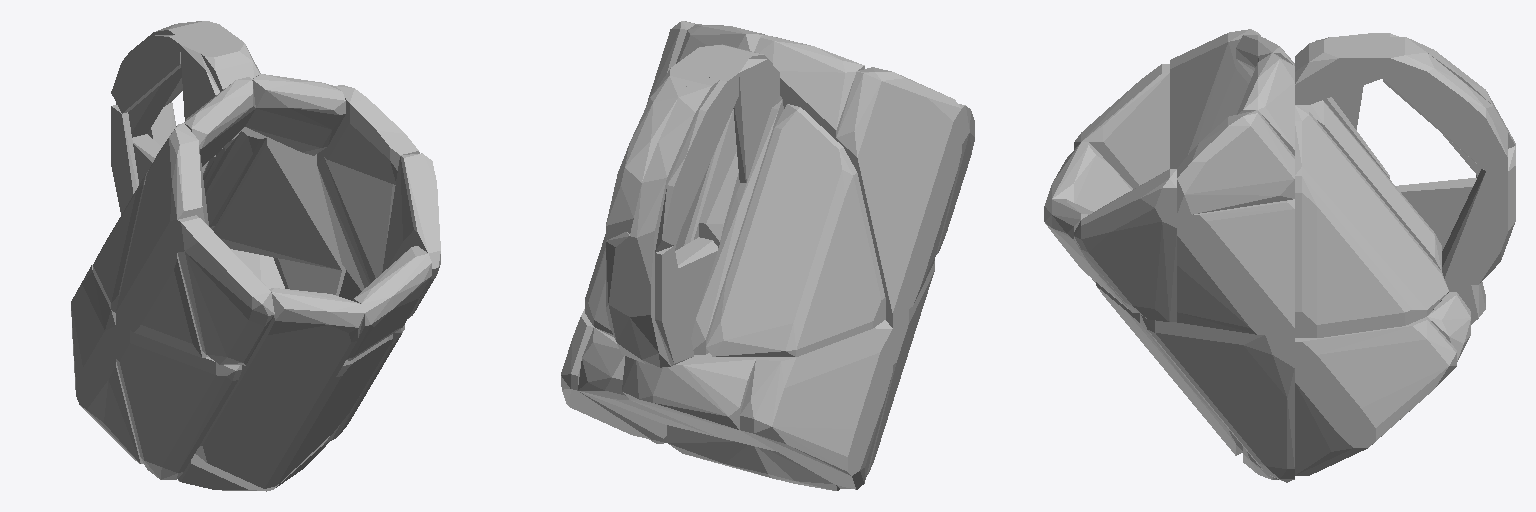
--- What the picture shows (computed from the rendered views, not written in the file) ---
3 views of the same robot in one strip: view 1: azimuth 30°, elevation 25°; view 2: azimuth 150°, elevation 25°; view 3: azimuth 270°, elevation 25° (orthographic).
Model root with 31 links and 30 joints (30 fixed), rooted at link_5d803107b8a9aec8724d867867ccd9fb_convex_piece_0, posed all joints at 0.
Visible links, largest first — view 1: link_5d803107b8a9aec8724d867867ccd9fb_convex_piece_8, link_5d803107b8a9aec8724d867867ccd9fb_convex_piece_14, link_5d803107b8a9aec8724d867867ccd9fb_convex_piece_1, link_5d803107b8a9aec8724d867867ccd9fb_convex_piece_0, link_5d803107b8a9aec8724d867867ccd9fb_convex_piece_12, link_5d803107b8a9aec8724d867867ccd9fb_convex_piece_3, link_5d803107b8a9aec8724d867867ccd9fb_convex_piece_18, link_5d803107b8a9aec8724d867867ccd9fb_convex_piece_20, link_5d803107b8a9aec8724d867867ccd9fb_convex_piece_17, link_5d803107b8a9aec8724d867867ccd9fb_convex_piece_21, link_5d803107b8a9aec8724d867867ccd9fb_convex_piece_16, link_5d803107b8a9aec8724d867867ccd9fb_convex_piece_10 (+14 smaller); view 2: link_5d803107b8a9aec8724d867867ccd9fb_convex_piece_5, link_5d803107b8a9aec8724d867867ccd9fb_convex_piece_14, link_5d803107b8a9aec8724d867867ccd9fb_convex_piece_3, link_5d803107b8a9aec8724d867867ccd9fb_convex_piece_4, link_5d803107b8a9aec8724d867867ccd9fb_convex_piece_30, link_5d803107b8a9aec8724d867867ccd9fb_convex_piece_15, link_5d803107b8a9aec8724d867867ccd9fb_convex_piece_26, link_5d803107b8a9aec8724d867867ccd9fb_convex_piece_28, link_5d803107b8a9aec8724d867867ccd9fb_convex_piece_29, link_5d803107b8a9aec8724d867867ccd9fb_convex_piece_19, link_5d803107b8a9aec8724d867867ccd9fb_convex_piece_25, link_5d803107b8a9aec8724d867867ccd9fb_convex_piece_6 (+13 smaller); view 3: link_5d803107b8a9aec8724d867867ccd9fb_convex_piece_0, link_5d803107b8a9aec8724d867867ccd9fb_convex_piece_7, link_5d803107b8a9aec8724d867867ccd9fb_convex_piece_18, link_5d803107b8a9aec8724d867867ccd9fb_convex_piece_2, link_5d803107b8a9aec8724d867867ccd9fb_convex_piece_17, link_5d803107b8a9aec8724d867867ccd9fb_convex_piece_21, link_5d803107b8a9aec8724d867867ccd9fb_convex_piece_28, link_5d803107b8a9aec8724d867867ccd9fb_convex_piece_14, link_5d803107b8a9aec8724d867867ccd9fb_convex_piece_12, link_5d803107b8a9aec8724d867867ccd9fb_convex_piece_22, link_5d803107b8a9aec8724d867867ccd9fb_convex_piece_13, link_5d803107b8a9aec8724d867867ccd9fb_convex_piece_23 (+11 smaller).
Boxes of the visible links, box(x1,y1,x2,y2) form: link_5d803107b8a9aec8724d867867ccd9fb_convex_piece_8: box(195, 288, 364, 488); link_5d803107b8a9aec8724d867867ccd9fb_convex_piece_14: box(116, 123, 208, 357); link_5d803107b8a9aec8724d867867ccd9fb_convex_piece_1: box(116, 320, 241, 479); link_5d803107b8a9aec8724d867867ccd9fb_convex_piece_0: box(212, 137, 345, 270); link_5d803107b8a9aec8724d867867ccd9fb_convex_piece_12: box(177, 215, 274, 365); link_5d803107b8a9aec8724d867867ccd9fb_convex_piece_3: box(71, 265, 143, 463); link_5d803107b8a9aec8724d867867ccd9fb_convex_piece_18: box(317, 153, 395, 290); link_5d803107b8a9aec8724d867867ccd9fb_convex_piece_20: box(245, 74, 345, 155); link_5d803107b8a9aec8724d867867ccd9fb_convex_piece_17: box(382, 153, 440, 318); link_5d803107b8a9aec8724d867867ccd9fb_convex_piece_21: box(319, 85, 419, 184); link_5d803107b8a9aec8724d867867ccd9fb_convex_piece_16: box(347, 246, 431, 360); link_5d803107b8a9aec8724d867867ccd9fb_convex_piece_10: box(271, 334, 392, 486); link_5d803107b8a9aec8724d867867ccd9fb_convex_piece_5: box(706, 104, 885, 356); link_5d803107b8a9aec8724d867867ccd9fb_convex_piece_14: box(836, 67, 961, 320); link_5d803107b8a9aec8724d867867ccd9fb_convex_piece_3: box(740, 320, 892, 489); link_5d803107b8a9aec8724d867867ccd9fb_convex_piece_4: box(622, 353, 776, 451); link_5d803107b8a9aec8724d867867ccd9fb_convex_piece_30: box(630, 75, 719, 284); link_5d803107b8a9aec8724d867867ccd9fb_convex_piece_15: box(754, 35, 864, 139); link_5d803107b8a9aec8724d867867ccd9fb_convex_piece_26: box(655, 71, 738, 252); link_5d803107b8a9aec8724d867867ccd9fb_convex_piece_28: box(606, 65, 700, 240); link_5d803107b8a9aec8724d867867ccd9fb_convex_piece_29: box(630, 237, 717, 367); link_5d803107b8a9aec8724d867867ccd9fb_convex_piece_19: box(691, 95, 783, 354); link_5d803107b8a9aec8724d867867ccd9fb_convex_piece_25: box(733, 59, 779, 182); link_5d803107b8a9aec8724d867867ccd9fb_convex_piece_6: box(578, 327, 718, 437); link_5d803107b8a9aec8724d867867ccd9fb_convex_piece_0: box(1295, 105, 1448, 337); link_5d803107b8a9aec8724d867867ccd9fb_convex_piece_7: box(1295, 317, 1456, 475); link_5d803107b8a9aec8724d867867ccd9fb_convex_piece_18: box(1177, 199, 1294, 334); link_5d803107b8a9aec8724d867867ccd9fb_convex_piece_2: box(1140, 314, 1294, 482); link_5d803107b8a9aec8724d867867ccd9fb_convex_piece_17: box(1074, 169, 1176, 321); link_5d803107b8a9aec8724d867867ccd9fb_convex_piece_21: box(1177, 110, 1294, 214); link_5d803107b8a9aec8724d867867ccd9fb_convex_piece_28: box(1383, 46, 1507, 171); link_5d803107b8a9aec8724d867867ccd9fb_convex_piece_14: box(1170, 29, 1260, 168); link_5d803107b8a9aec8724d867867ccd9fb_convex_piece_12: box(1074, 64, 1169, 188); link_5d803107b8a9aec8724d867867ccd9fb_convex_piece_22: box(1442, 146, 1515, 284); link_5d803107b8a9aec8724d867867ccd9fb_convex_piece_13: box(1295, 37, 1389, 104); link_5d803107b8a9aec8724d867867ccd9fb_convex_piece_23: box(1296, 100, 1441, 270).
Size in the robot's own frame: 0.0293 by 0.0469 by 0.0454 metres.
Meshes: 31 distinct files referenced, 31 mesh visuals loaded (31 OBJ).

The robot description file, URDF, robot "root":
<robot name="root">
  <link name="link_5d803107b8a9aec8724d867867ccd9fb_convex_piece_0">
    <inertial>
      <origin rpy="0 0 0" xyz="0 0 0"/>
      <mass value="3.25E-07"/>
      <inertia ixx="2.83E-11" ixy="1.57E-11" ixz="8.36E-12" iyy="3.21E-11" iyz="6.61E-12" izz="3.91E-11"/>
    </inertial>
    <visual>
      <origin rpy="0 0 0" xyz="0 0 0"/>
      <geometry>
        <mesh filename="5d803107b8a9aec8724d867867ccd9fb_convex_piece_0.obj" scale="1.0000E+00"/>
      </geometry>
      <material name="">
        <color rgba="7.50E-01 7.50E-01 7.50E-01 1"/>
      </material>
    </visual>
    <collision>
      <origin rpy="0 0 0" xyz="0 0 0"/>
      <geometry>
        <mesh filename="5d803107b8a9aec8724d867867ccd9fb_convex_piece_0.obj" scale="1.0000E+00"/>
      </geometry>
    </collision>
  </link>
  <link name="link_5d803107b8a9aec8724d867867ccd9fb_convex_piece_1">
    <inertial>
      <origin rpy="0 0 0" xyz="0 0 0"/>
      <mass value="1.71E-07"/>
      <inertia ixx="2.02E-11" ixy="6.37E-12" ixz="1.64E-11" iyy="3.72E-11" iyz="4.86E-12" izz="2.46E-11"/>
    </inertial>
    <visual>
      <origin rpy="0 0 0" xyz="0 0 0"/>
      <geometry>
        <mesh filename="5d803107b8a9aec8724d867867ccd9fb_convex_piece_1.obj" scale="1.0000E+00"/>
      </geometry>
      <material name="">
        <color rgba="7.50E-01 7.50E-01 7.50E-01 1"/>
      </material>
    </visual>
    <collision>
      <origin rpy="0 0 0" xyz="0 0 0"/>
      <geometry>
        <mesh filename="5d803107b8a9aec8724d867867ccd9fb_convex_piece_1.obj" scale="1.0000E+00"/>
      </geometry>
    </collision>
  </link>
  <joint name="link_5d803107b8a9aec8724d867867ccd9fb_convex_piece_1_joint" type="fixed">
    <origin rpy="0 0 0" xyz="0 0 0"/>
    <parent link="link_5d803107b8a9aec8724d867867ccd9fb_convex_piece_0"/>
    <child link="link_5d803107b8a9aec8724d867867ccd9fb_convex_piece_1"/>
  </joint>
  <link name="link_5d803107b8a9aec8724d867867ccd9fb_convex_piece_2">
    <inertial>
      <origin rpy="0 0 0" xyz="0 0 0"/>
      <mass value="1.70E-07"/>
      <inertia ixx="1.99E-11" ixy="-6.30E-12" ixz="-1.63E-11" iyy="3.70E-11" iyz="4.77E-12" izz="2.45E-11"/>
    </inertial>
    <visual>
      <origin rpy="0 0 0" xyz="0 0 0"/>
      <geometry>
        <mesh filename="5d803107b8a9aec8724d867867ccd9fb_convex_piece_2.obj" scale="1.0000E+00"/>
      </geometry>
      <material name="">
        <color rgba="7.50E-01 7.50E-01 7.50E-01 1"/>
      </material>
    </visual>
    <collision>
      <origin rpy="0 0 0" xyz="0 0 0"/>
      <geometry>
        <mesh filename="5d803107b8a9aec8724d867867ccd9fb_convex_piece_2.obj" scale="1.0000E+00"/>
      </geometry>
    </collision>
  </link>
  <joint name="link_5d803107b8a9aec8724d867867ccd9fb_convex_piece_2_joint" type="fixed">
    <origin rpy="0 0 0" xyz="0 0 0"/>
    <parent link="link_5d803107b8a9aec8724d867867ccd9fb_convex_piece_1"/>
    <child link="link_5d803107b8a9aec8724d867867ccd9fb_convex_piece_2"/>
  </joint>
  <link name="link_5d803107b8a9aec8724d867867ccd9fb_convex_piece_3">
    <inertial>
      <origin rpy="0 0 0" xyz="0 0 0"/>
      <mass value="3.02E-07"/>
      <inertia ixx="5.04E-11" ixy="-2.41E-11" ixz="3.15E-11" iyy="6.77E-11" iyz="-1.87E-11" izz="5.76E-11"/>
    </inertial>
    <visual>
      <origin rpy="0 0 0" xyz="0 0 0"/>
      <geometry>
        <mesh filename="5d803107b8a9aec8724d867867ccd9fb_convex_piece_3.obj" scale="1.0000E+00"/>
      </geometry>
      <material name="">
        <color rgba="7.50E-01 7.50E-01 7.50E-01 1"/>
      </material>
    </visual>
    <collision>
      <origin rpy="0 0 0" xyz="0 0 0"/>
      <geometry>
        <mesh filename="5d803107b8a9aec8724d867867ccd9fb_convex_piece_3.obj" scale="1.0000E+00"/>
      </geometry>
    </collision>
  </link>
  <joint name="link_5d803107b8a9aec8724d867867ccd9fb_convex_piece_3_joint" type="fixed">
    <origin rpy="0 0 0" xyz="0 0 0"/>
    <parent link="link_5d803107b8a9aec8724d867867ccd9fb_convex_piece_2"/>
    <child link="link_5d803107b8a9aec8724d867867ccd9fb_convex_piece_3"/>
  </joint>
  <link name="link_5d803107b8a9aec8724d867867ccd9fb_convex_piece_4">
    <inertial>
      <origin rpy="0 0 0" xyz="0 0 0"/>
      <mass value="4.46E-07"/>
      <inertia ixx="9.81E-11" ixy="-1.14E-11" ixz="1.03E-11" iyy="4.77E-11" iyz="-3.40E-11" izz="6.49E-11"/>
    </inertial>
    <visual>
      <origin rpy="0 0 0" xyz="0 0 0"/>
      <geometry>
        <mesh filename="5d803107b8a9aec8724d867867ccd9fb_convex_piece_4.obj" scale="1.0000E+00"/>
      </geometry>
      <material name="">
        <color rgba="7.50E-01 7.50E-01 7.50E-01 1"/>
      </material>
    </visual>
    <collision>
      <origin rpy="0 0 0" xyz="0 0 0"/>
      <geometry>
        <mesh filename="5d803107b8a9aec8724d867867ccd9fb_convex_piece_4.obj" scale="1.0000E+00"/>
      </geometry>
    </collision>
  </link>
  <joint name="link_5d803107b8a9aec8724d867867ccd9fb_convex_piece_4_joint" type="fixed">
    <origin rpy="0 0 0" xyz="0 0 0"/>
    <parent link="link_5d803107b8a9aec8724d867867ccd9fb_convex_piece_3"/>
    <child link="link_5d803107b8a9aec8724d867867ccd9fb_convex_piece_4"/>
  </joint>
  <link name="link_5d803107b8a9aec8724d867867ccd9fb_convex_piece_5">
    <inertial>
      <origin rpy="0 0 0" xyz="0 0 0"/>
      <mass value="2.72E-07"/>
      <inertia ixx="2.23E-11" ixy="-1.32E-11" ixz="-8.19E-12" iyy="2.80E-11" iyz="6.12E-12" izz="3.23E-11"/>
    </inertial>
    <visual>
      <origin rpy="0 0 0" xyz="0 0 0"/>
      <geometry>
        <mesh filename="5d803107b8a9aec8724d867867ccd9fb_convex_piece_5.obj" scale="1.0000E+00"/>
      </geometry>
      <material name="">
        <color rgba="7.50E-01 7.50E-01 7.50E-01 1"/>
      </material>
    </visual>
    <collision>
      <origin rpy="0 0 0" xyz="0 0 0"/>
      <geometry>
        <mesh filename="5d803107b8a9aec8724d867867ccd9fb_convex_piece_5.obj" scale="1.0000E+00"/>
      </geometry>
    </collision>
  </link>
  <joint name="link_5d803107b8a9aec8724d867867ccd9fb_convex_piece_5_joint" type="fixed">
    <origin rpy="0 0 0" xyz="0 0 0"/>
    <parent link="link_5d803107b8a9aec8724d867867ccd9fb_convex_piece_4"/>
    <child link="link_5d803107b8a9aec8724d867867ccd9fb_convex_piece_5"/>
  </joint>
  <link name="link_5d803107b8a9aec8724d867867ccd9fb_convex_piece_6">
    <inertial>
      <origin rpy="0 0 0" xyz="0 0 0"/>
      <mass value="2.10E-07"/>
      <inertia ixx="4.52E-11" ixy="1.22E-11" ixz="-1.19E-11" iyy="2.89E-11" iyz="-1.65E-11" izz="3.21E-11"/>
    </inertial>
    <visual>
      <origin rpy="0 0 0" xyz="0 0 0"/>
      <geometry>
        <mesh filename="5d803107b8a9aec8724d867867ccd9fb_convex_piece_6.obj" scale="1.0000E+00"/>
      </geometry>
      <material name="">
        <color rgba="7.50E-01 7.50E-01 7.50E-01 1"/>
      </material>
    </visual>
    <collision>
      <origin rpy="0 0 0" xyz="0 0 0"/>
      <geometry>
        <mesh filename="5d803107b8a9aec8724d867867ccd9fb_convex_piece_6.obj" scale="1.0000E+00"/>
      </geometry>
    </collision>
  </link>
  <joint name="link_5d803107b8a9aec8724d867867ccd9fb_convex_piece_6_joint" type="fixed">
    <origin rpy="0 0 0" xyz="0 0 0"/>
    <parent link="link_5d803107b8a9aec8724d867867ccd9fb_convex_piece_5"/>
    <child link="link_5d803107b8a9aec8724d867867ccd9fb_convex_piece_6"/>
  </joint>
  <link name="link_5d803107b8a9aec8724d867867ccd9fb_convex_piece_7">
    <inertial>
      <origin rpy="0 0 0" xyz="0 0 0"/>
      <mass value="2.53E-07"/>
      <inertia ixx="4.27E-11" ixy="2.05E-11" ixz="-2.82E-11" iyy="6.01E-11" iyz="-1.60E-11" izz="4.96E-11"/>
    </inertial>
    <visual>
      <origin rpy="0 0 0" xyz="0 0 0"/>
      <geometry>
        <mesh filename="5d803107b8a9aec8724d867867ccd9fb_convex_piece_7.obj" scale="1.0000E+00"/>
      </geometry>
      <material name="">
        <color rgba="7.50E-01 7.50E-01 7.50E-01 1"/>
      </material>
    </visual>
    <collision>
      <origin rpy="0 0 0" xyz="0 0 0"/>
      <geometry>
        <mesh filename="5d803107b8a9aec8724d867867ccd9fb_convex_piece_7.obj" scale="1.0000E+00"/>
      </geometry>
    </collision>
  </link>
  <joint name="link_5d803107b8a9aec8724d867867ccd9fb_convex_piece_7_joint" type="fixed">
    <origin rpy="0 0 0" xyz="0 0 0"/>
    <parent link="link_5d803107b8a9aec8724d867867ccd9fb_convex_piece_6"/>
    <child link="link_5d803107b8a9aec8724d867867ccd9fb_convex_piece_7"/>
  </joint>
  <link name="link_5d803107b8a9aec8724d867867ccd9fb_convex_piece_8">
    <inertial>
      <origin rpy="0 0 0" xyz="0 0 0"/>
      <mass value="3.19E-07"/>
      <inertia ixx="8.34E-11" ixy="1.70E-11" ixz="6.93E-12" iyy="3.28E-11" iyz="1.34E-11" izz="6.64E-11"/>
    </inertial>
    <visual>
      <origin rpy="0 0 0" xyz="0 0 0"/>
      <geometry>
        <mesh filename="5d803107b8a9aec8724d867867ccd9fb_convex_piece_8.obj" scale="1.0000E+00"/>
      </geometry>
      <material name="">
        <color rgba="7.50E-01 7.50E-01 7.50E-01 1"/>
      </material>
    </visual>
    <collision>
      <origin rpy="0 0 0" xyz="0 0 0"/>
      <geometry>
        <mesh filename="5d803107b8a9aec8724d867867ccd9fb_convex_piece_8.obj" scale="1.0000E+00"/>
      </geometry>
    </collision>
  </link>
  <joint name="link_5d803107b8a9aec8724d867867ccd9fb_convex_piece_8_joint" type="fixed">
    <origin rpy="0 0 0" xyz="0 0 0"/>
    <parent link="link_5d803107b8a9aec8724d867867ccd9fb_convex_piece_7"/>
    <child link="link_5d803107b8a9aec8724d867867ccd9fb_convex_piece_8"/>
  </joint>
  <link name="link_5d803107b8a9aec8724d867867ccd9fb_convex_piece_9">
    <inertial>
      <origin rpy="0 0 0" xyz="0 0 0"/>
      <mass value="1.05E-07"/>
      <inertia ixx="3.29E-11" ixy="5.20E-13" ixz="8.08E-12" iyy="3.55E-11" iyz="2.60E-12" izz="2.72E-12"/>
    </inertial>
    <visual>
      <origin rpy="0 0 0" xyz="0 0 0"/>
      <geometry>
        <mesh filename="5d803107b8a9aec8724d867867ccd9fb_convex_piece_9.obj" scale="1.0000E+00"/>
      </geometry>
      <material name="">
        <color rgba="7.50E-01 7.50E-01 7.50E-01 1"/>
      </material>
    </visual>
    <collision>
      <origin rpy="0 0 0" xyz="0 0 0"/>
      <geometry>
        <mesh filename="5d803107b8a9aec8724d867867ccd9fb_convex_piece_9.obj" scale="1.0000E+00"/>
      </geometry>
    </collision>
  </link>
  <joint name="link_5d803107b8a9aec8724d867867ccd9fb_convex_piece_9_joint" type="fixed">
    <origin rpy="0 0 0" xyz="0 0 0"/>
    <parent link="link_5d803107b8a9aec8724d867867ccd9fb_convex_piece_8"/>
    <child link="link_5d803107b8a9aec8724d867867ccd9fb_convex_piece_9"/>
  </joint>
  <link name="link_5d803107b8a9aec8724d867867ccd9fb_convex_piece_10">
    <inertial>
      <origin rpy="0 0 0" xyz="0 0 0"/>
      <mass value="2.03E-07"/>
      <inertia ixx="4.44E-11" ixy="-7.68E-12" ixz="-8.08E-12" iyy="2.89E-11" iyz="1.74E-11" izz="2.49E-11"/>
    </inertial>
    <visual>
      <origin rpy="0 0 0" xyz="0 0 0"/>
      <geometry>
        <mesh filename="5d803107b8a9aec8724d867867ccd9fb_convex_piece_10.obj" scale="1.0000E+00"/>
      </geometry>
      <material name="">
        <color rgba="7.50E-01 7.50E-01 7.50E-01 1"/>
      </material>
    </visual>
    <collision>
      <origin rpy="0 0 0" xyz="0 0 0"/>
      <geometry>
        <mesh filename="5d803107b8a9aec8724d867867ccd9fb_convex_piece_10.obj" scale="1.0000E+00"/>
      </geometry>
    </collision>
  </link>
  <joint name="link_5d803107b8a9aec8724d867867ccd9fb_convex_piece_10_joint" type="fixed">
    <origin rpy="0 0 0" xyz="0 0 0"/>
    <parent link="link_5d803107b8a9aec8724d867867ccd9fb_convex_piece_9"/>
    <child link="link_5d803107b8a9aec8724d867867ccd9fb_convex_piece_10"/>
  </joint>
  <link name="link_5d803107b8a9aec8724d867867ccd9fb_convex_piece_11">
    <inertial>
      <origin rpy="0 0 0" xyz="0 0 0"/>
      <mass value="1.04E-07"/>
      <inertia ixx="3.26E-11" ixy="-5.14E-13" ixz="-8.06E-12" iyy="3.53E-11" iyz="2.57E-12" izz="2.71E-12"/>
    </inertial>
    <visual>
      <origin rpy="0 0 0" xyz="0 0 0"/>
      <geometry>
        <mesh filename="5d803107b8a9aec8724d867867ccd9fb_convex_piece_11.obj" scale="1.0000E+00"/>
      </geometry>
      <material name="">
        <color rgba="7.50E-01 7.50E-01 7.50E-01 1"/>
      </material>
    </visual>
    <collision>
      <origin rpy="0 0 0" xyz="0 0 0"/>
      <geometry>
        <mesh filename="5d803107b8a9aec8724d867867ccd9fb_convex_piece_11.obj" scale="1.0000E+00"/>
      </geometry>
    </collision>
  </link>
  <joint name="link_5d803107b8a9aec8724d867867ccd9fb_convex_piece_11_joint" type="fixed">
    <origin rpy="0 0 0" xyz="0 0 0"/>
    <parent link="link_5d803107b8a9aec8724d867867ccd9fb_convex_piece_10"/>
    <child link="link_5d803107b8a9aec8724d867867ccd9fb_convex_piece_11"/>
  </joint>
  <link name="link_5d803107b8a9aec8724d867867ccd9fb_convex_piece_12">
    <inertial>
      <origin rpy="0 0 0" xyz="0 0 0"/>
      <mass value="9.89E-08"/>
      <inertia ixx="2.46E-11" ixy="1.56E-11" ixz="-6.35E-12" iyy="1.62E-11" iyz="-7.56E-12" izz="3.28E-11"/>
    </inertial>
    <visual>
      <origin rpy="0 0 0" xyz="0 0 0"/>
      <geometry>
        <mesh filename="5d803107b8a9aec8724d867867ccd9fb_convex_piece_12.obj" scale="1.0000E+00"/>
      </geometry>
      <material name="">
        <color rgba="7.50E-01 7.50E-01 7.50E-01 1"/>
      </material>
    </visual>
    <collision>
      <origin rpy="0 0 0" xyz="0 0 0"/>
      <geometry>
        <mesh filename="5d803107b8a9aec8724d867867ccd9fb_convex_piece_12.obj" scale="1.0000E+00"/>
      </geometry>
    </collision>
  </link>
  <joint name="link_5d803107b8a9aec8724d867867ccd9fb_convex_piece_12_joint" type="fixed">
    <origin rpy="0 0 0" xyz="0 0 0"/>
    <parent link="link_5d803107b8a9aec8724d867867ccd9fb_convex_piece_11"/>
    <child link="link_5d803107b8a9aec8724d867867ccd9fb_convex_piece_12"/>
  </joint>
  <link name="link_5d803107b8a9aec8724d867867ccd9fb_convex_piece_13">
    <inertial>
      <origin rpy="0 0 0" xyz="0 0 0"/>
      <mass value="6.06E-08"/>
      <inertia ixx="2.71E-11" ixy="1.06E-13" ixz="4.07E-13" iyy="2.49E-11" iyz="7.60E-12" izz="2.48E-12"/>
    </inertial>
    <visual>
      <origin rpy="0 0 0" xyz="0 0 0"/>
      <geometry>
        <mesh filename="5d803107b8a9aec8724d867867ccd9fb_convex_piece_13.obj" scale="1.0000E+00"/>
      </geometry>
      <material name="">
        <color rgba="7.50E-01 7.50E-01 7.50E-01 1"/>
      </material>
    </visual>
    <collision>
      <origin rpy="0 0 0" xyz="0 0 0"/>
      <geometry>
        <mesh filename="5d803107b8a9aec8724d867867ccd9fb_convex_piece_13.obj" scale="1.0000E+00"/>
      </geometry>
    </collision>
  </link>
  <joint name="link_5d803107b8a9aec8724d867867ccd9fb_convex_piece_13_joint" type="fixed">
    <origin rpy="0 0 0" xyz="0 0 0"/>
    <parent link="link_5d803107b8a9aec8724d867867ccd9fb_convex_piece_12"/>
    <child link="link_5d803107b8a9aec8724d867867ccd9fb_convex_piece_13"/>
  </joint>
  <link name="link_5d803107b8a9aec8724d867867ccd9fb_convex_piece_14">
    <inertial>
      <origin rpy="0 0 0" xyz="0 0 0"/>
      <mass value="3.35E-07"/>
      <inertia ixx="3.55E-11" ixy="1.93E-11" ixz="-2.66E-11" iyy="7.03E-11" iyz="-1.06E-11" izz="5.63E-11"/>
    </inertial>
    <visual>
      <origin rpy="0 0 0" xyz="0 0 0"/>
      <geometry>
        <mesh filename="5d803107b8a9aec8724d867867ccd9fb_convex_piece_14.obj" scale="1.0000E+00"/>
      </geometry>
      <material name="">
        <color rgba="7.50E-01 7.50E-01 7.50E-01 1"/>
      </material>
    </visual>
    <collision>
      <origin rpy="0 0 0" xyz="0 0 0"/>
      <geometry>
        <mesh filename="5d803107b8a9aec8724d867867ccd9fb_convex_piece_14.obj" scale="1.0000E+00"/>
      </geometry>
    </collision>
  </link>
  <joint name="link_5d803107b8a9aec8724d867867ccd9fb_convex_piece_14_joint" type="fixed">
    <origin rpy="0 0 0" xyz="0 0 0"/>
    <parent link="link_5d803107b8a9aec8724d867867ccd9fb_convex_piece_13"/>
    <child link="link_5d803107b8a9aec8724d867867ccd9fb_convex_piece_14"/>
  </joint>
  <link name="link_5d803107b8a9aec8724d867867ccd9fb_convex_piece_15">
    <inertial>
      <origin rpy="0 0 0" xyz="0 0 0"/>
      <mass value="6.70E-08"/>
      <inertia ixx="2.01E-11" ixy="2.84E-13" ixz="-5.50E-12" iyy="2.21E-11" iyz="-6.34E-13" izz="1.95E-12"/>
    </inertial>
    <visual>
      <origin rpy="0 0 0" xyz="0 0 0"/>
      <geometry>
        <mesh filename="5d803107b8a9aec8724d867867ccd9fb_convex_piece_15.obj" scale="1.0000E+00"/>
      </geometry>
      <material name="">
        <color rgba="7.50E-01 7.50E-01 7.50E-01 1"/>
      </material>
    </visual>
    <collision>
      <origin rpy="0 0 0" xyz="0 0 0"/>
      <geometry>
        <mesh filename="5d803107b8a9aec8724d867867ccd9fb_convex_piece_15.obj" scale="1.0000E+00"/>
      </geometry>
    </collision>
  </link>
  <joint name="link_5d803107b8a9aec8724d867867ccd9fb_convex_piece_15_joint" type="fixed">
    <origin rpy="0 0 0" xyz="0 0 0"/>
    <parent link="link_5d803107b8a9aec8724d867867ccd9fb_convex_piece_14"/>
    <child link="link_5d803107b8a9aec8724d867867ccd9fb_convex_piece_15"/>
  </joint>
  <link name="link_5d803107b8a9aec8724d867867ccd9fb_convex_piece_16">
    <inertial>
      <origin rpy="0 0 0" xyz="0 0 0"/>
      <mass value="1.37E-07"/>
      <inertia ixx="4.42E-11" ixy="-1.20E-11" ixz="1.60E-12" iyy="5.52E-12" iyz="-5.15E-12" izz="4.79E-11"/>
    </inertial>
    <visual>
      <origin rpy="0 0 0" xyz="0 0 0"/>
      <geometry>
        <mesh filename="5d803107b8a9aec8724d867867ccd9fb_convex_piece_16.obj" scale="1.0000E+00"/>
      </geometry>
      <material name="">
        <color rgba="7.50E-01 7.50E-01 7.50E-01 1"/>
      </material>
    </visual>
    <collision>
      <origin rpy="0 0 0" xyz="0 0 0"/>
      <geometry>
        <mesh filename="5d803107b8a9aec8724d867867ccd9fb_convex_piece_16.obj" scale="1.0000E+00"/>
      </geometry>
    </collision>
  </link>
  <joint name="link_5d803107b8a9aec8724d867867ccd9fb_convex_piece_16_joint" type="fixed">
    <origin rpy="0 0 0" xyz="0 0 0"/>
    <parent link="link_5d803107b8a9aec8724d867867ccd9fb_convex_piece_15"/>
    <child link="link_5d803107b8a9aec8724d867867ccd9fb_convex_piece_16"/>
  </joint>
  <link name="link_5d803107b8a9aec8724d867867ccd9fb_convex_piece_17">
    <inertial>
      <origin rpy="0 0 0" xyz="0 0 0"/>
      <mass value="1.04E-07"/>
      <inertia ixx="2.45E-11" ixy="-1.60E-11" ixz="7.67E-12" iyy="1.89E-11" iyz="-8.42E-12" izz="3.32E-11"/>
    </inertial>
    <visual>
      <origin rpy="0 0 0" xyz="0 0 0"/>
      <geometry>
        <mesh filename="5d803107b8a9aec8724d867867ccd9fb_convex_piece_17.obj" scale="1.0000E+00"/>
      </geometry>
      <material name="">
        <color rgba="7.50E-01 7.50E-01 7.50E-01 1"/>
      </material>
    </visual>
    <collision>
      <origin rpy="0 0 0" xyz="0 0 0"/>
      <geometry>
        <mesh filename="5d803107b8a9aec8724d867867ccd9fb_convex_piece_17.obj" scale="1.0000E+00"/>
      </geometry>
    </collision>
  </link>
  <joint name="link_5d803107b8a9aec8724d867867ccd9fb_convex_piece_17_joint" type="fixed">
    <origin rpy="0 0 0" xyz="0 0 0"/>
    <parent link="link_5d803107b8a9aec8724d867867ccd9fb_convex_piece_16"/>
    <child link="link_5d803107b8a9aec8724d867867ccd9fb_convex_piece_17"/>
  </joint>
  <link name="link_5d803107b8a9aec8724d867867ccd9fb_convex_piece_18">
    <inertial>
      <origin rpy="0 0 0" xyz="0 0 0"/>
      <mass value="2.14E-07"/>
      <inertia ixx="1.12E-11" ixy="-1.13E-11" ixz="1.06E-11" iyy="3.65E-11" iyz="-3.10E-12" izz="3.66E-11"/>
    </inertial>
    <visual>
      <origin rpy="0 0 0" xyz="0 0 0"/>
      <geometry>
        <mesh filename="5d803107b8a9aec8724d867867ccd9fb_convex_piece_18.obj" scale="1.0000E+00"/>
      </geometry>
      <material name="">
        <color rgba="7.50E-01 7.50E-01 7.50E-01 1"/>
      </material>
    </visual>
    <collision>
      <origin rpy="0 0 0" xyz="0 0 0"/>
      <geometry>
        <mesh filename="5d803107b8a9aec8724d867867ccd9fb_convex_piece_18.obj" scale="1.0000E+00"/>
      </geometry>
    </collision>
  </link>
  <joint name="link_5d803107b8a9aec8724d867867ccd9fb_convex_piece_18_joint" type="fixed">
    <origin rpy="0 0 0" xyz="0 0 0"/>
    <parent link="link_5d803107b8a9aec8724d867867ccd9fb_convex_piece_17"/>
    <child link="link_5d803107b8a9aec8724d867867ccd9fb_convex_piece_18"/>
  </joint>
  <link name="link_5d803107b8a9aec8724d867867ccd9fb_convex_piece_19">
    <inertial>
      <origin rpy="0 0 0" xyz="0 0 0"/>
      <mass value="3.43E-08"/>
      <inertia ixx="5.11E-12" ixy="-8.95E-13" ixz="-6.39E-13" iyy="2.31E-12" iyz="1.42E-12" izz="3.41E-12"/>
    </inertial>
    <visual>
      <origin rpy="0 0 0" xyz="0 0 0"/>
      <geometry>
        <mesh filename="5d803107b8a9aec8724d867867ccd9fb_convex_piece_19.obj" scale="1.0000E+00"/>
      </geometry>
      <material name="">
        <color rgba="7.50E-01 7.50E-01 7.50E-01 1"/>
      </material>
    </visual>
    <collision>
      <origin rpy="0 0 0" xyz="0 0 0"/>
      <geometry>
        <mesh filename="5d803107b8a9aec8724d867867ccd9fb_convex_piece_19.obj" scale="1.0000E+00"/>
      </geometry>
    </collision>
  </link>
  <joint name="link_5d803107b8a9aec8724d867867ccd9fb_convex_piece_19_joint" type="fixed">
    <origin rpy="0 0 0" xyz="0 0 0"/>
    <parent link="link_5d803107b8a9aec8724d867867ccd9fb_convex_piece_18"/>
    <child link="link_5d803107b8a9aec8724d867867ccd9fb_convex_piece_19"/>
  </joint>
  <link name="link_5d803107b8a9aec8724d867867ccd9fb_convex_piece_20">
    <inertial>
      <origin rpy="0 0 0" xyz="0 0 0"/>
      <mass value="6.83E-08"/>
      <inertia ixx="2.03E-11" ixy="-2.99E-13" ixz="5.66E-12" iyy="2.24E-11" iyz="-6.60E-13" izz="2.03E-12"/>
    </inertial>
    <visual>
      <origin rpy="0 0 0" xyz="0 0 0"/>
      <geometry>
        <mesh filename="5d803107b8a9aec8724d867867ccd9fb_convex_piece_20.obj" scale="1.0000E+00"/>
      </geometry>
      <material name="">
        <color rgba="7.50E-01 7.50E-01 7.50E-01 1"/>
      </material>
    </visual>
    <collision>
      <origin rpy="0 0 0" xyz="0 0 0"/>
      <geometry>
        <mesh filename="5d803107b8a9aec8724d867867ccd9fb_convex_piece_20.obj" scale="1.0000E+00"/>
      </geometry>
    </collision>
  </link>
  <joint name="link_5d803107b8a9aec8724d867867ccd9fb_convex_piece_20_joint" type="fixed">
    <origin rpy="0 0 0" xyz="0 0 0"/>
    <parent link="link_5d803107b8a9aec8724d867867ccd9fb_convex_piece_19"/>
    <child link="link_5d803107b8a9aec8724d867867ccd9fb_convex_piece_20"/>
  </joint>
  <link name="link_5d803107b8a9aec8724d867867ccd9fb_convex_piece_21">
    <inertial>
      <origin rpy="0 0 0" xyz="0 0 0"/>
      <mass value="7.66E-08"/>
      <inertia ixx="1.73E-11" ixy="-4.04E-12" ixz="1.19E-11" iyy="2.49E-11" iyz="-4.62E-12" izz="1.15E-11"/>
    </inertial>
    <visual>
      <origin rpy="0 0 0" xyz="0 0 0"/>
      <geometry>
        <mesh filename="5d803107b8a9aec8724d867867ccd9fb_convex_piece_21.obj" scale="1.0000E+00"/>
      </geometry>
      <material name="">
        <color rgba="7.50E-01 7.50E-01 7.50E-01 1"/>
      </material>
    </visual>
    <collision>
      <origin rpy="0 0 0" xyz="0 0 0"/>
      <geometry>
        <mesh filename="5d803107b8a9aec8724d867867ccd9fb_convex_piece_21.obj" scale="1.0000E+00"/>
      </geometry>
    </collision>
  </link>
  <joint name="link_5d803107b8a9aec8724d867867ccd9fb_convex_piece_21_joint" type="fixed">
    <origin rpy="0 0 0" xyz="0 0 0"/>
    <parent link="link_5d803107b8a9aec8724d867867ccd9fb_convex_piece_20"/>
    <child link="link_5d803107b8a9aec8724d867867ccd9fb_convex_piece_21"/>
  </joint>
  <link name="link_5d803107b8a9aec8724d867867ccd9fb_convex_piece_22">
    <inertial>
      <origin rpy="0 0 0" xyz="0 0 0"/>
      <mass value="5.85E-08"/>
      <inertia ixx="2.53E-11" ixy="1.69E-12" ixz="2.96E-13" iyy="1.37E-12" iyz="4.69E-12" izz="2.42E-11"/>
    </inertial>
    <visual>
      <origin rpy="0 0 0" xyz="0 0 0"/>
      <geometry>
        <mesh filename="5d803107b8a9aec8724d867867ccd9fb_convex_piece_22.obj" scale="1.0000E+00"/>
      </geometry>
      <material name="">
        <color rgba="7.50E-01 7.50E-01 7.50E-01 1"/>
      </material>
    </visual>
    <collision>
      <origin rpy="0 0 0" xyz="0 0 0"/>
      <geometry>
        <mesh filename="5d803107b8a9aec8724d867867ccd9fb_convex_piece_22.obj" scale="1.0000E+00"/>
      </geometry>
    </collision>
  </link>
  <joint name="link_5d803107b8a9aec8724d867867ccd9fb_convex_piece_22_joint" type="fixed">
    <origin rpy="0 0 0" xyz="0 0 0"/>
    <parent link="link_5d803107b8a9aec8724d867867ccd9fb_convex_piece_21"/>
    <child link="link_5d803107b8a9aec8724d867867ccd9fb_convex_piece_22"/>
  </joint>
  <link name="link_5d803107b8a9aec8724d867867ccd9fb_convex_piece_23">
    <inertial>
      <origin rpy="0 0 0" xyz="0 0 0"/>
      <mass value="7.77E-08"/>
      <inertia ixx="1.30E-11" ixy="9.91E-13" ixz="8.39E-13" iyy="6.34E-12" iyz="3.78E-12" izz="7.10E-12"/>
    </inertial>
    <visual>
      <origin rpy="0 0 0" xyz="0 0 0"/>
      <geometry>
        <mesh filename="5d803107b8a9aec8724d867867ccd9fb_convex_piece_23.obj" scale="1.0000E+00"/>
      </geometry>
      <material name="">
        <color rgba="7.50E-01 7.50E-01 7.50E-01 1"/>
      </material>
    </visual>
    <collision>
      <origin rpy="0 0 0" xyz="0 0 0"/>
      <geometry>
        <mesh filename="5d803107b8a9aec8724d867867ccd9fb_convex_piece_23.obj" scale="1.0000E+00"/>
      </geometry>
    </collision>
  </link>
  <joint name="link_5d803107b8a9aec8724d867867ccd9fb_convex_piece_23_joint" type="fixed">
    <origin rpy="0 0 0" xyz="0 0 0"/>
    <parent link="link_5d803107b8a9aec8724d867867ccd9fb_convex_piece_22"/>
    <child link="link_5d803107b8a9aec8724d867867ccd9fb_convex_piece_23"/>
  </joint>
  <link name="link_5d803107b8a9aec8724d867867ccd9fb_convex_piece_24">
    <inertial>
      <origin rpy="0 0 0" xyz="0 0 0"/>
      <mass value="1.04E-08"/>
      <inertia ixx="4.47E-12" ixy="-5.37E-13" ixz="-9.49E-14" iyy="2.71E-13" iyz="8.25E-13" izz="4.34E-12"/>
    </inertial>
    <visual>
      <origin rpy="0 0 0" xyz="0 0 0"/>
      <geometry>
        <mesh filename="5d803107b8a9aec8724d867867ccd9fb_convex_piece_24.obj" scale="1.0000E+00"/>
      </geometry>
      <material name="">
        <color rgba="7.50E-01 7.50E-01 7.50E-01 1"/>
      </material>
    </visual>
    <collision>
      <origin rpy="0 0 0" xyz="0 0 0"/>
      <geometry>
        <mesh filename="5d803107b8a9aec8724d867867ccd9fb_convex_piece_24.obj" scale="1.0000E+00"/>
      </geometry>
    </collision>
  </link>
  <joint name="link_5d803107b8a9aec8724d867867ccd9fb_convex_piece_24_joint" type="fixed">
    <origin rpy="0 0 0" xyz="0 0 0"/>
    <parent link="link_5d803107b8a9aec8724d867867ccd9fb_convex_piece_23"/>
    <child link="link_5d803107b8a9aec8724d867867ccd9fb_convex_piece_24"/>
  </joint>
  <link name="link_5d803107b8a9aec8724d867867ccd9fb_convex_piece_25">
    <inertial>
      <origin rpy="0 0 0" xyz="0 0 0"/>
      <mass value="1.76E-08"/>
      <inertia ixx="5.38E-12" ixy="-2.30E-13" ixz="-7.40E-13" iyy="5.02E-12" iyz="1.57E-12" izz="5.85E-13"/>
    </inertial>
    <visual>
      <origin rpy="0 0 0" xyz="0 0 0"/>
      <geometry>
        <mesh filename="5d803107b8a9aec8724d867867ccd9fb_convex_piece_25.obj" scale="1.0000E+00"/>
      </geometry>
      <material name="">
        <color rgba="7.50E-01 7.50E-01 7.50E-01 1"/>
      </material>
    </visual>
    <collision>
      <origin rpy="0 0 0" xyz="0 0 0"/>
      <geometry>
        <mesh filename="5d803107b8a9aec8724d867867ccd9fb_convex_piece_25.obj" scale="1.0000E+00"/>
      </geometry>
    </collision>
  </link>
  <joint name="link_5d803107b8a9aec8724d867867ccd9fb_convex_piece_25_joint" type="fixed">
    <origin rpy="0 0 0" xyz="0 0 0"/>
    <parent link="link_5d803107b8a9aec8724d867867ccd9fb_convex_piece_24"/>
    <child link="link_5d803107b8a9aec8724d867867ccd9fb_convex_piece_25"/>
  </joint>
  <link name="link_5d803107b8a9aec8724d867867ccd9fb_convex_piece_26">
    <inertial>
      <origin rpy="0 0 0" xyz="0 0 0"/>
      <mass value="1.63E-08"/>
      <inertia ixx="8.96E-12" ixy="-6.60E-13" ixz="-6.98E-13" iyy="4.80E-12" iyz="4.26E-12" izz="4.38E-12"/>
    </inertial>
    <visual>
      <origin rpy="0 0 0" xyz="0 0 0"/>
      <geometry>
        <mesh filename="5d803107b8a9aec8724d867867ccd9fb_convex_piece_26.obj" scale="1.0000E+00"/>
      </geometry>
      <material name="">
        <color rgba="7.50E-01 7.50E-01 7.50E-01 1"/>
      </material>
    </visual>
    <collision>
      <origin rpy="0 0 0" xyz="0 0 0"/>
      <geometry>
        <mesh filename="5d803107b8a9aec8724d867867ccd9fb_convex_piece_26.obj" scale="1.0000E+00"/>
      </geometry>
    </collision>
  </link>
  <joint name="link_5d803107b8a9aec8724d867867ccd9fb_convex_piece_26_joint" type="fixed">
    <origin rpy="0 0 0" xyz="0 0 0"/>
    <parent link="link_5d803107b8a9aec8724d867867ccd9fb_convex_piece_25"/>
    <child link="link_5d803107b8a9aec8724d867867ccd9fb_convex_piece_26"/>
  </joint>
  <link name="link_5d803107b8a9aec8724d867867ccd9fb_convex_piece_27">
    <inertial>
      <origin rpy="0 0 0" xyz="0 0 0"/>
      <mass value="4.15E-08"/>
      <inertia ixx="7.29E-12" ixy="-2.84E-13" ixz="-5.02E-13" iyy="5.57E-12" iyz="2.68E-12" izz="1.86E-12"/>
    </inertial>
    <visual>
      <origin rpy="0 0 0" xyz="0 0 0"/>
      <geometry>
        <mesh filename="5d803107b8a9aec8724d867867ccd9fb_convex_piece_27.obj" scale="1.0000E+00"/>
      </geometry>
      <material name="">
        <color rgba="7.50E-01 7.50E-01 7.50E-01 1"/>
      </material>
    </visual>
    <collision>
      <origin rpy="0 0 0" xyz="0 0 0"/>
      <geometry>
        <mesh filename="5d803107b8a9aec8724d867867ccd9fb_convex_piece_27.obj" scale="1.0000E+00"/>
      </geometry>
    </collision>
  </link>
  <joint name="link_5d803107b8a9aec8724d867867ccd9fb_convex_piece_27_joint" type="fixed">
    <origin rpy="0 0 0" xyz="0 0 0"/>
    <parent link="link_5d803107b8a9aec8724d867867ccd9fb_convex_piece_26"/>
    <child link="link_5d803107b8a9aec8724d867867ccd9fb_convex_piece_27"/>
  </joint>
  <link name="link_5d803107b8a9aec8724d867867ccd9fb_convex_piece_28">
    <inertial>
      <origin rpy="0 0 0" xyz="0 0 0"/>
      <mass value="6.83E-08"/>
      <inertia ixx="3.86E-11" ixy="1.64E-12" ixz="1.62E-12" iyy="1.92E-11" iyz="1.85E-11" izz="1.98E-11"/>
    </inertial>
    <visual>
      <origin rpy="0 0 0" xyz="0 0 0"/>
      <geometry>
        <mesh filename="5d803107b8a9aec8724d867867ccd9fb_convex_piece_28.obj" scale="1.0000E+00"/>
      </geometry>
      <material name="">
        <color rgba="7.50E-01 7.50E-01 7.50E-01 1"/>
      </material>
    </visual>
    <collision>
      <origin rpy="0 0 0" xyz="0 0 0"/>
      <geometry>
        <mesh filename="5d803107b8a9aec8724d867867ccd9fb_convex_piece_28.obj" scale="1.0000E+00"/>
      </geometry>
    </collision>
  </link>
  <joint name="link_5d803107b8a9aec8724d867867ccd9fb_convex_piece_28_joint" type="fixed">
    <origin rpy="0 0 0" xyz="0 0 0"/>
    <parent link="link_5d803107b8a9aec8724d867867ccd9fb_convex_piece_27"/>
    <child link="link_5d803107b8a9aec8724d867867ccd9fb_convex_piece_28"/>
  </joint>
  <link name="link_5d803107b8a9aec8724d867867ccd9fb_convex_piece_29">
    <inertial>
      <origin rpy="0 0 0" xyz="0 0 0"/>
      <mass value="7.31E-08"/>
      <inertia ixx="2.30E-11" ixy="-1.37E-12" ixz="-2.10E-13" iyy="7.81E-13" iyz="3.68E-12" izz="2.25E-11"/>
    </inertial>
    <visual>
      <origin rpy="0 0 0" xyz="0 0 0"/>
      <geometry>
        <mesh filename="5d803107b8a9aec8724d867867ccd9fb_convex_piece_29.obj" scale="1.0000E+00"/>
      </geometry>
      <material name="">
        <color rgba="7.50E-01 7.50E-01 7.50E-01 1"/>
      </material>
    </visual>
    <collision>
      <origin rpy="0 0 0" xyz="0 0 0"/>
      <geometry>
        <mesh filename="5d803107b8a9aec8724d867867ccd9fb_convex_piece_29.obj" scale="1.0000E+00"/>
      </geometry>
    </collision>
  </link>
  <joint name="link_5d803107b8a9aec8724d867867ccd9fb_convex_piece_29_joint" type="fixed">
    <origin rpy="0 0 0" xyz="0 0 0"/>
    <parent link="link_5d803107b8a9aec8724d867867ccd9fb_convex_piece_28"/>
    <child link="link_5d803107b8a9aec8724d867867ccd9fb_convex_piece_29"/>
  </joint>
  <link name="link_5d803107b8a9aec8724d867867ccd9fb_convex_piece_30">
    <inertial>
      <origin rpy="0 0 0" xyz="0 0 0"/>
      <mass value="6.37E-08"/>
      <inertia ixx="3.54E-11" ixy="-1.21E-12" ixz="-1.03E-12" iyy="1.51E-11" iyz="1.65E-11" izz="2.05E-11"/>
    </inertial>
    <visual>
      <origin rpy="0 0 0" xyz="0 0 0"/>
      <geometry>
        <mesh filename="5d803107b8a9aec8724d867867ccd9fb_convex_piece_30.obj" scale="1.0000E+00"/>
      </geometry>
      <material name="">
        <color rgba="7.50E-01 7.50E-01 7.50E-01 1"/>
      </material>
    </visual>
    <collision>
      <origin rpy="0 0 0" xyz="0 0 0"/>
      <geometry>
        <mesh filename="5d803107b8a9aec8724d867867ccd9fb_convex_piece_30.obj" scale="1.0000E+00"/>
      </geometry>
    </collision>
  </link>
  <joint name="link_5d803107b8a9aec8724d867867ccd9fb_convex_piece_30_joint" type="fixed">
    <origin rpy="0 0 0" xyz="0 0 0"/>
    <parent link="link_5d803107b8a9aec8724d867867ccd9fb_convex_piece_29"/>
    <child link="link_5d803107b8a9aec8724d867867ccd9fb_convex_piece_30"/>
  </joint>
</robot>
